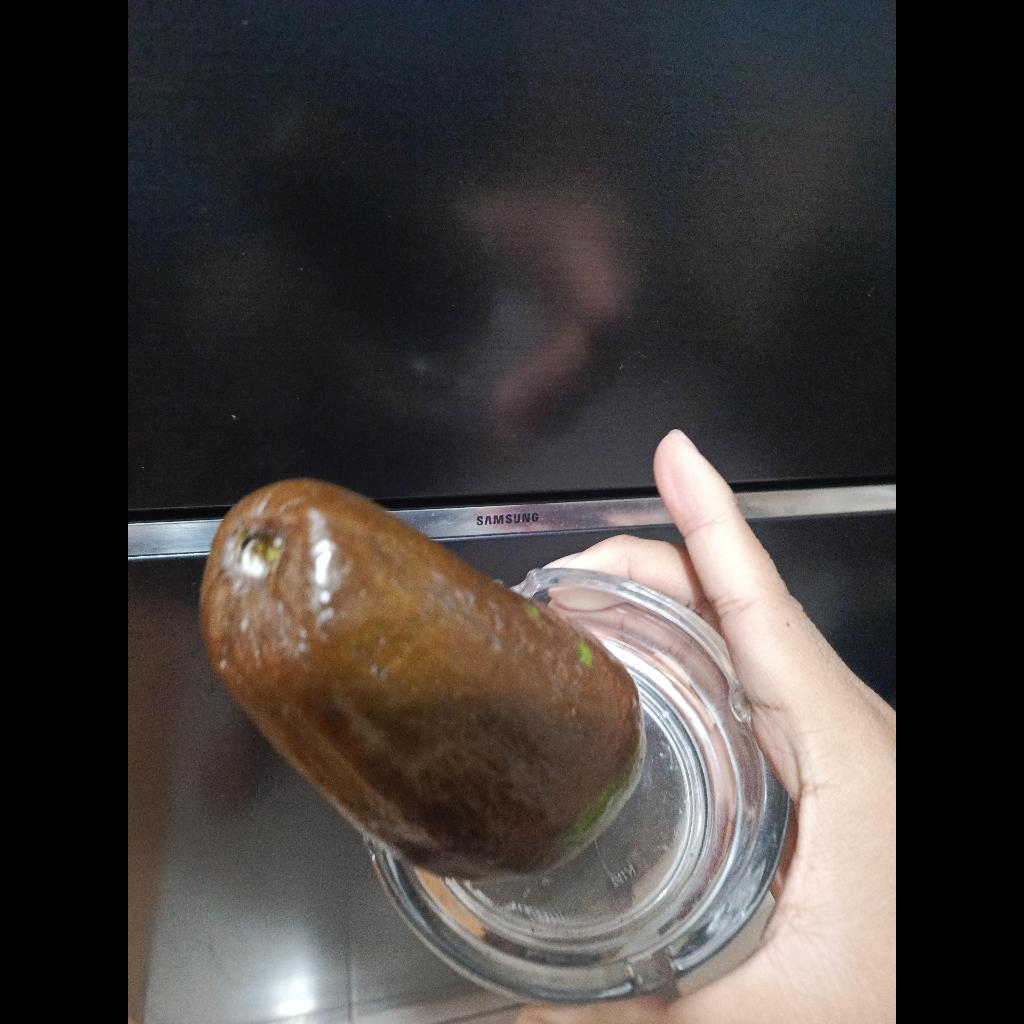stem end rot: (201, 480, 644, 878)
